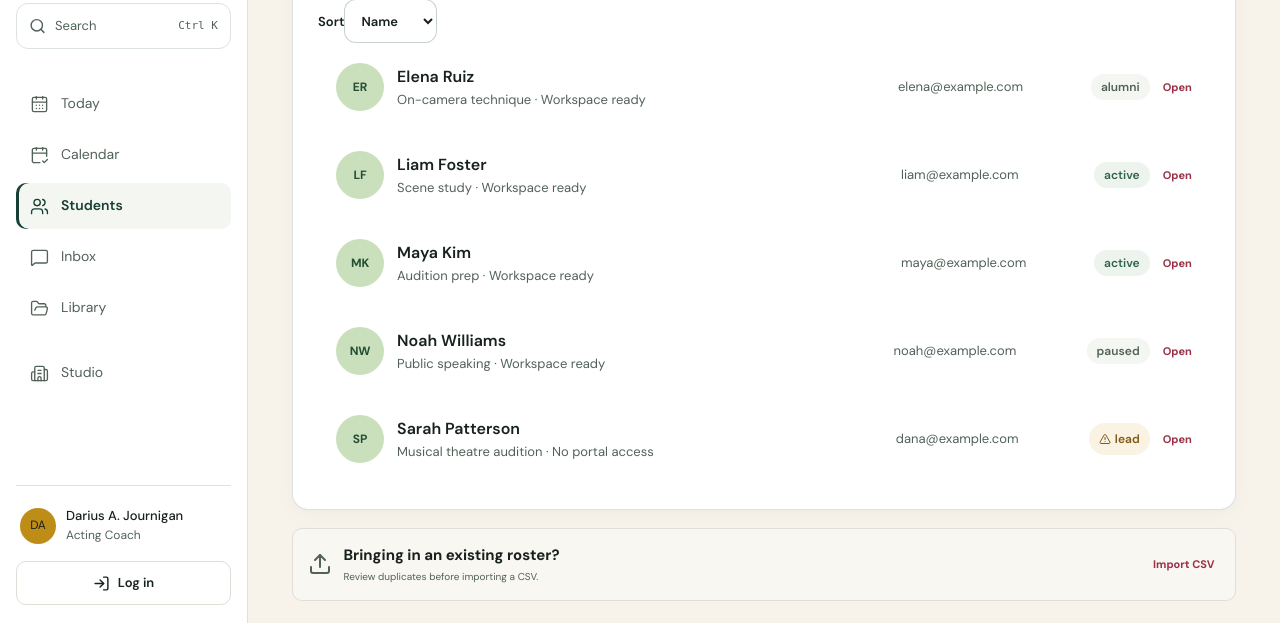
Test: 50 start-to-finish studio workflows › coach — 20 workflows › 01 opens a full student record from the roster
(page scrolled)
Click the button "Maya Kim": click(360, 263) [318, 219, 1210, 307]
(page scrolled)
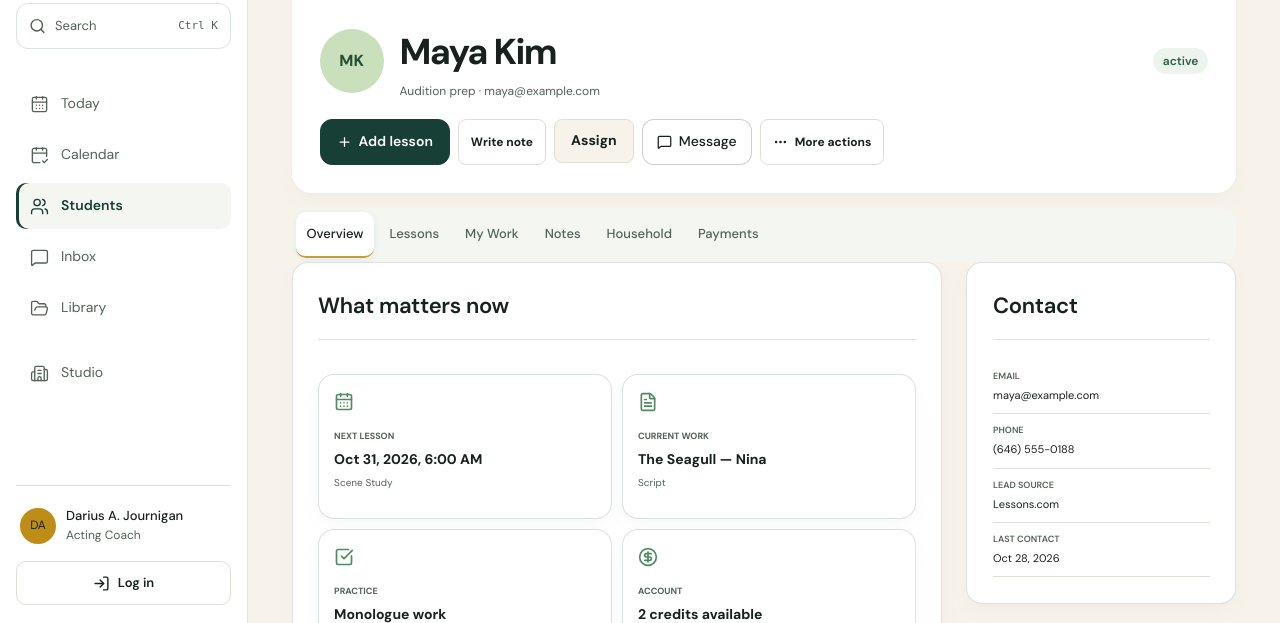
Check: the heading "Maya Kim" is shown, box [400, 28, 556, 74]
Check: the link "My Work" is shown, box [465, 225, 519, 242]
